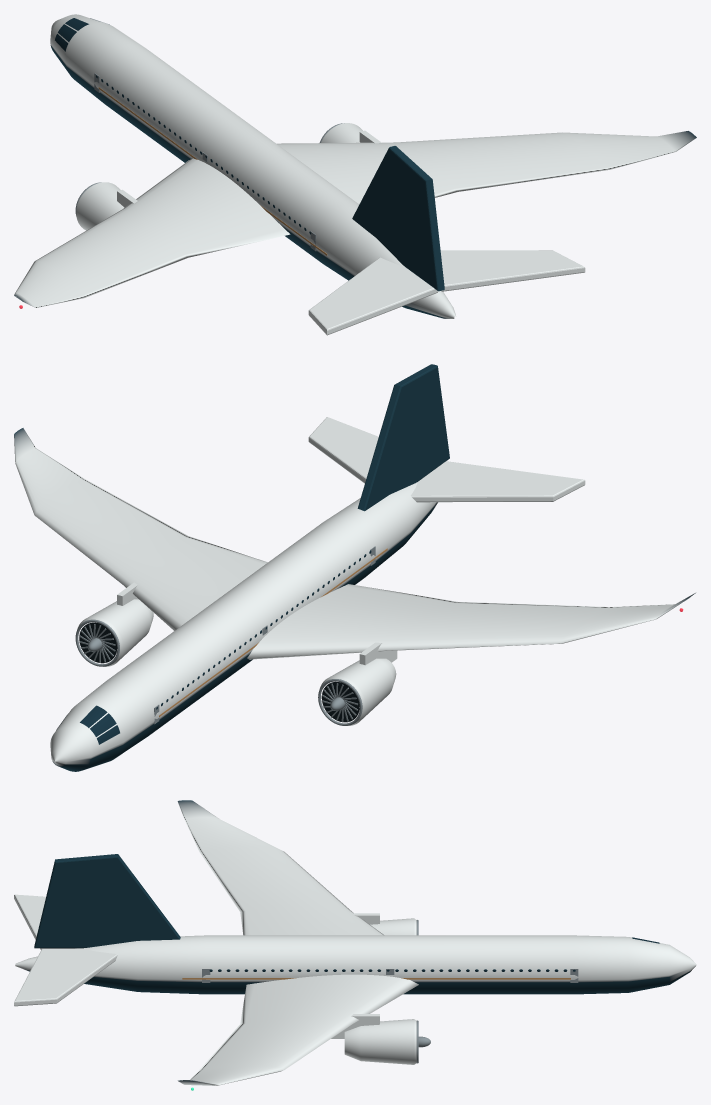
3 views of the same model, one above another, from view 1: azimuth 30°, elevation 25°; view 2: azimuth 150°, elevation 25°; view 3: azimuth 270°, elevation 25° (orthographic). The views are drawn at different scales.
Size of the model in its own units: 64.75 by 16.88 by 66.8.
